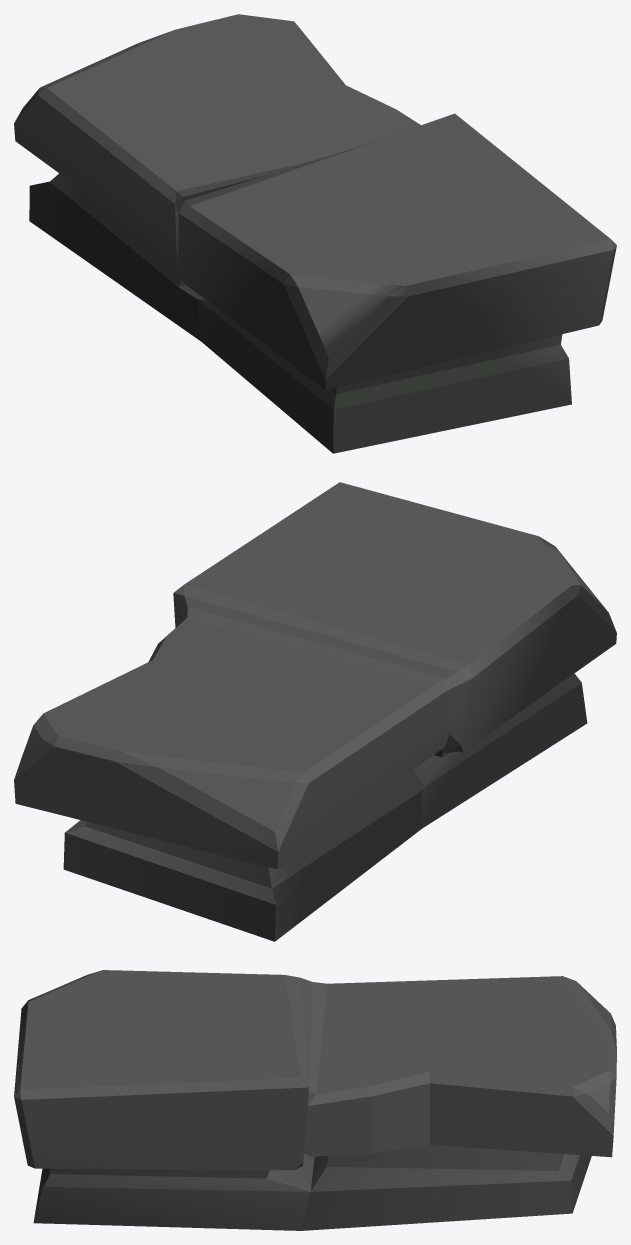
File: stone floor.fbx
3 renders of one model, top to bottom at view 1: azimuth 30°, elevation 25°; view 2: azimuth 150°, elevation 25°; view 3: azimuth 270°, elevation 25°, orthographic. The views are drawn at different scales.
Parts seen in each view (by area): view 1: stonepilar_LOD0; view 2: stonepilar_LOD0; view 3: stonepilar_LOD0.
Part boxes in pixels (x1=…): stonepilar_LOD0: x1=14, y1=14, x2=616, y2=453; stonepilar_LOD0: x1=14, y1=482, x2=616, y2=941; stonepilar_LOD0: x1=14, y1=970, x2=616, y2=1230.
Size of what is drawn, in the model's own units: 200 by 116 by 400.
